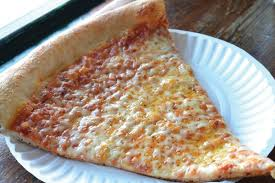pizza: (4, 2, 275, 183)
